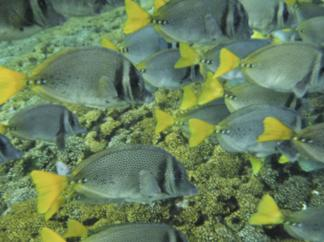Acanthuridae -Surgeonfishes-: (30, 145, 200, 213), (0, 43, 155, 113), (213, 40, 324, 98), (188, 103, 306, 156), (122, 0, 255, 42), (261, 114, 324, 171), (128, 47, 205, 87), (41, 224, 197, 242), (0, 0, 70, 40)
